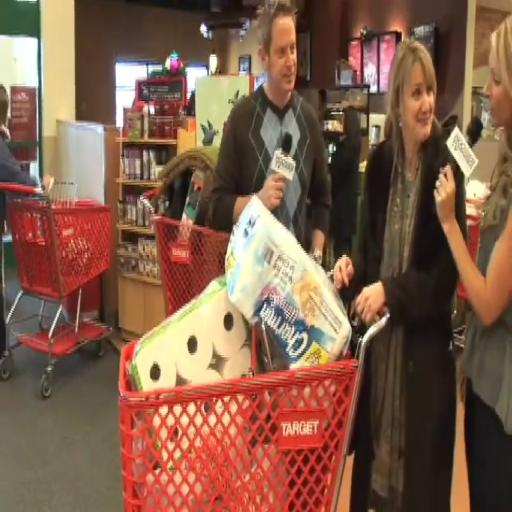shopping_cart: (118, 265, 392, 512), (0, 179, 113, 400), (140, 187, 232, 324)
